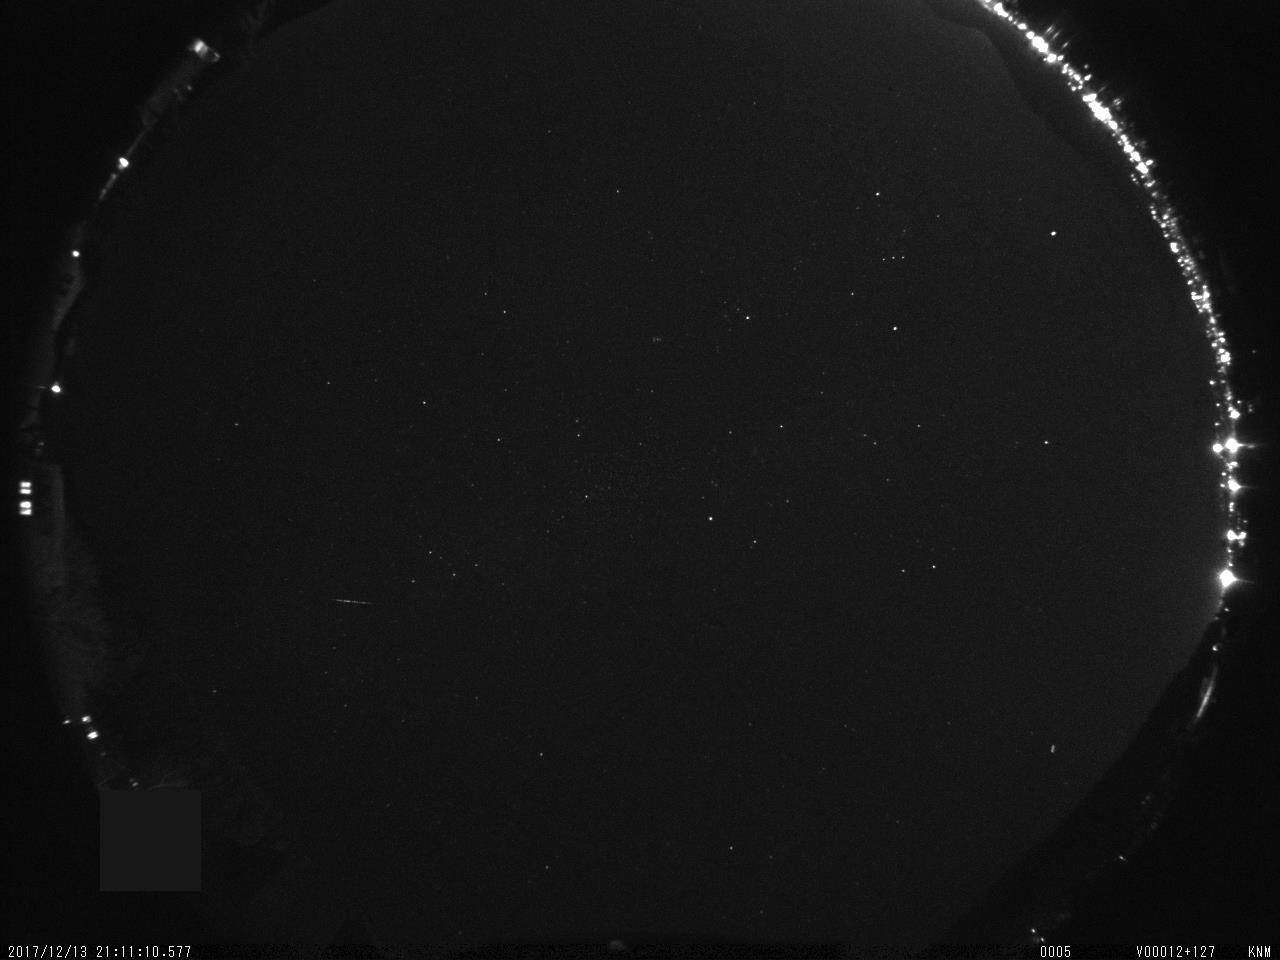meteor: (320, 580, 379, 620)
